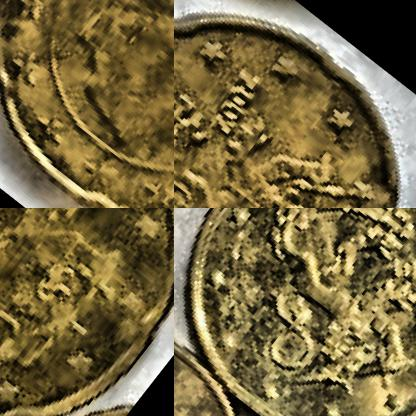coin: (174, 0, 415, 207), (174, 208, 415, 415), (0, 0, 173, 207), (0, 208, 173, 415)
